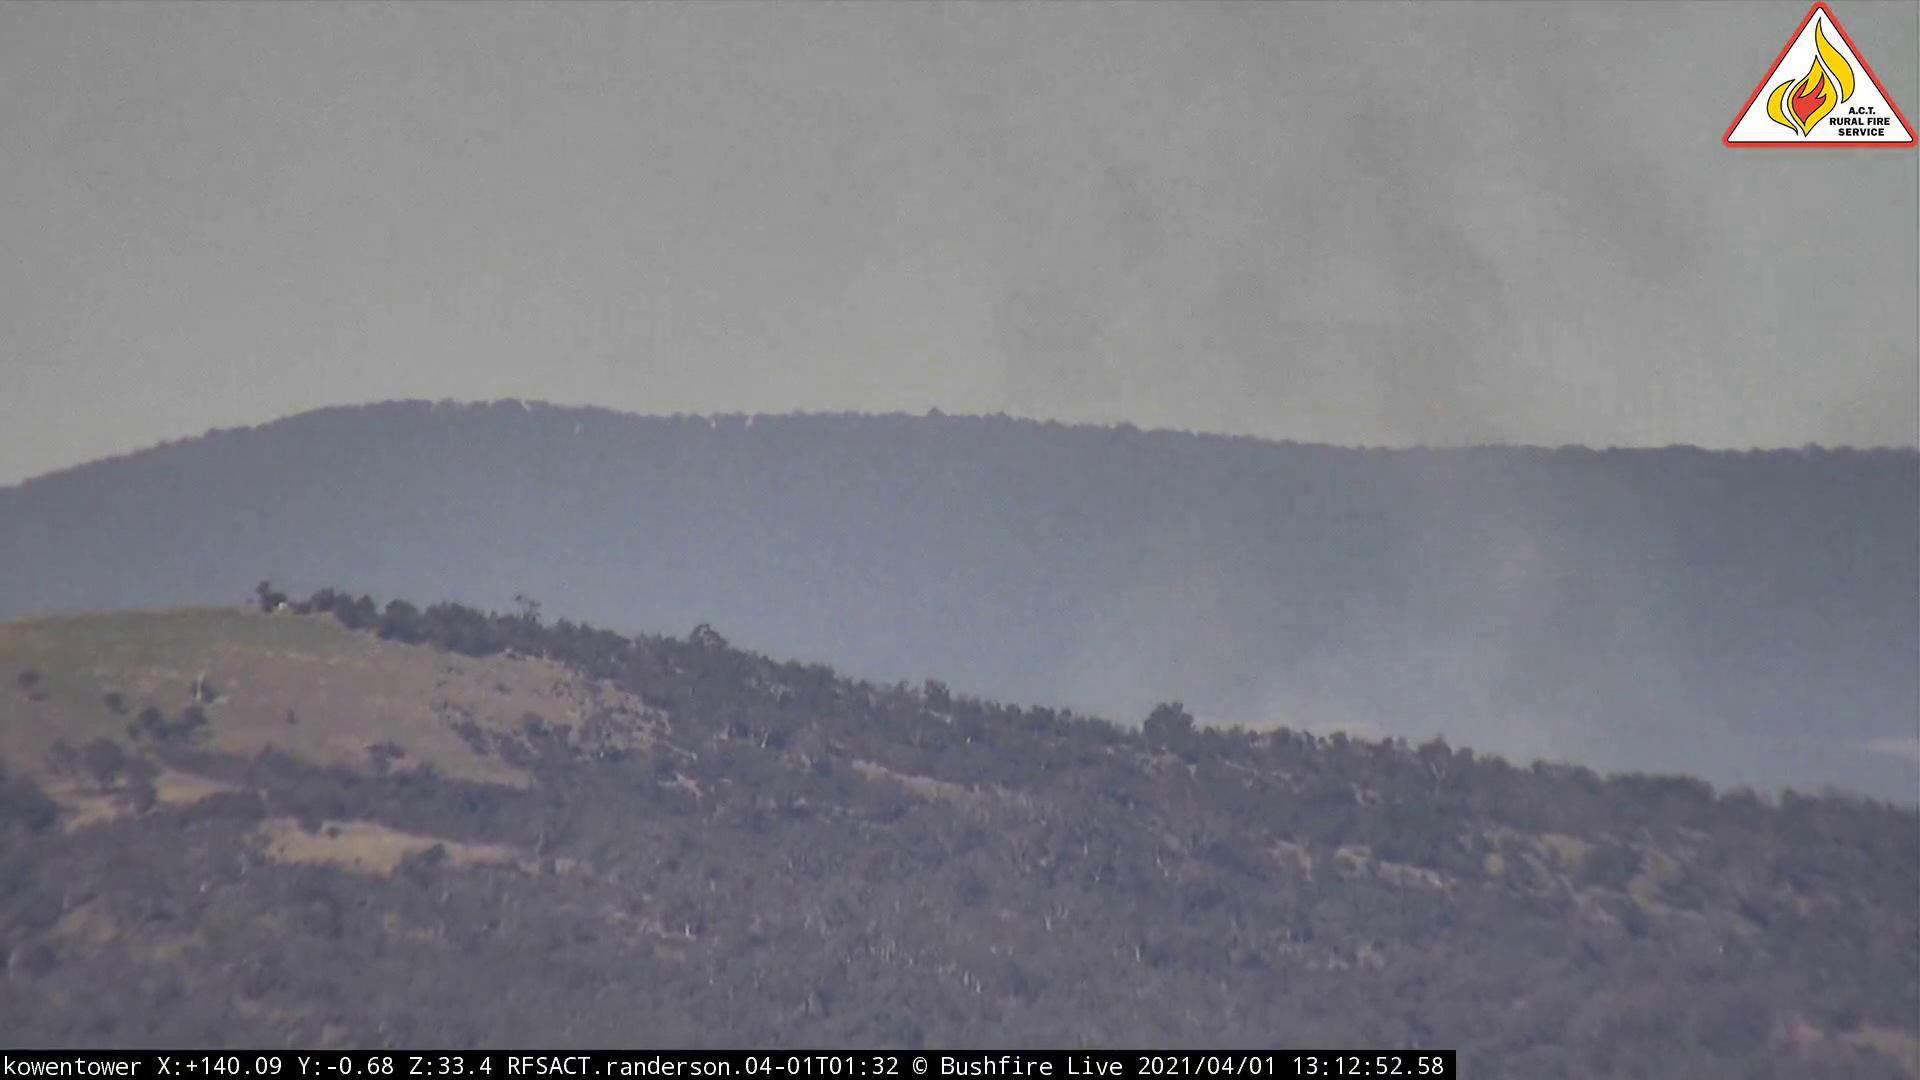Smoke: (997, 32, 1712, 787)
